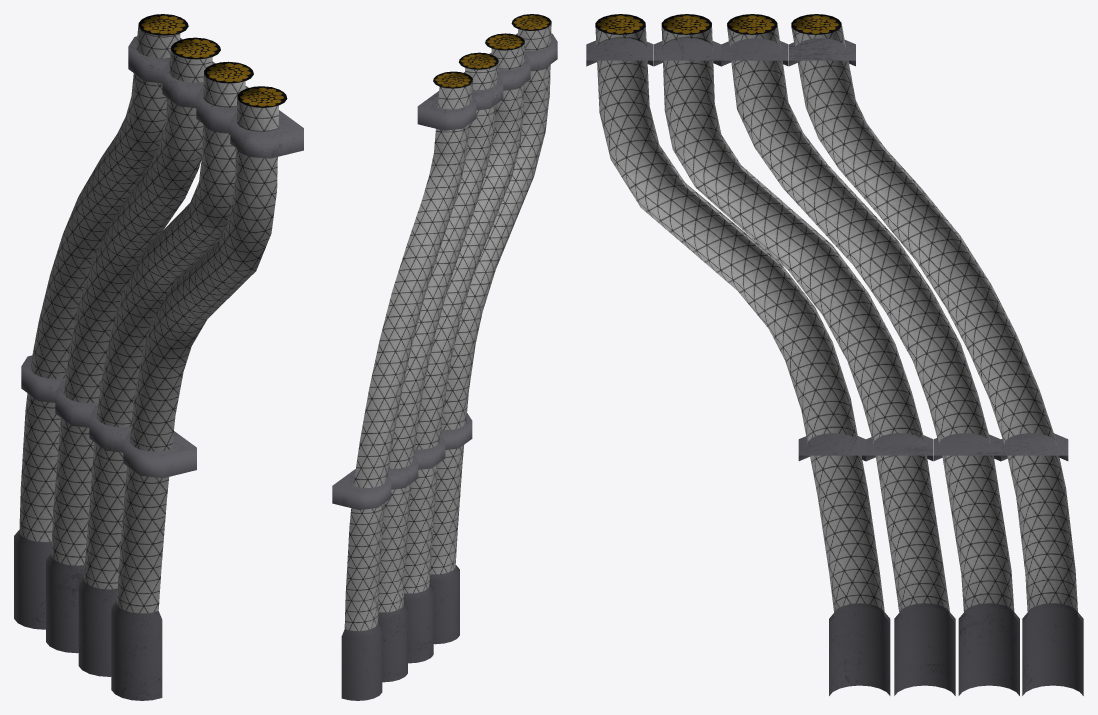
The model's file is cables_2.glb.
The picture shows the model from 3 angles, left to right: view 1: azimuth 30°, elevation 25°; view 2: azimuth 150°, elevation 25°; view 3: azimuth 270°, elevation 25°; orthographic projection. The views are drawn at different scales.
Visible parts, largest first — view 1: Cables_Low; view 2: Cables_Low; view 3: Cables_Low.
Part boxes in pixels (x1=…): Cables_Low: x1=14, y1=14, x2=303, y2=700; Cables_Low: x1=332, y1=14, x2=557, y2=700; Cables_Low: x1=586, y1=14, x2=1083, y2=695.
Size of the model in its own units: 0.1581 by 2 by 1.34.
1 material, 1 textured.
